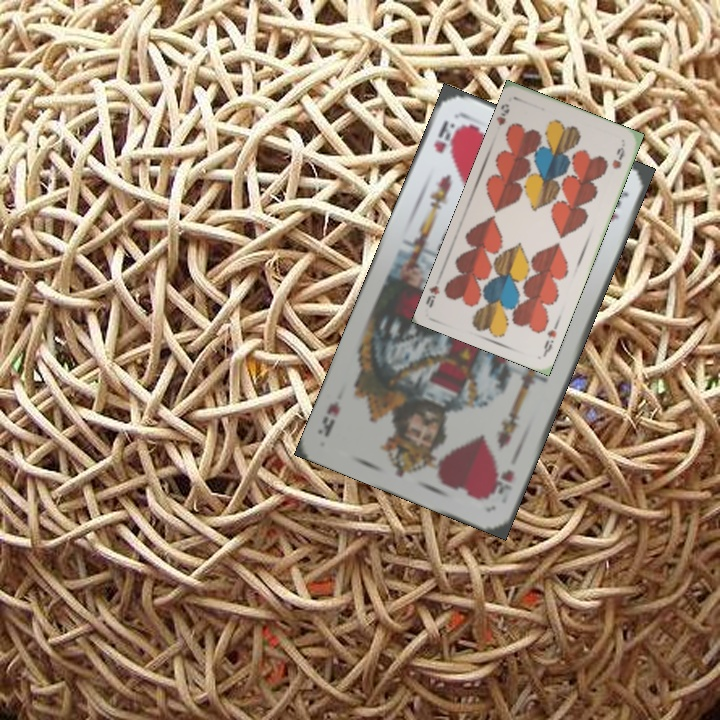H9: (539, 325, 559, 357), (494, 99, 512, 128)
HK: (429, 115, 465, 157), (484, 465, 518, 503)
